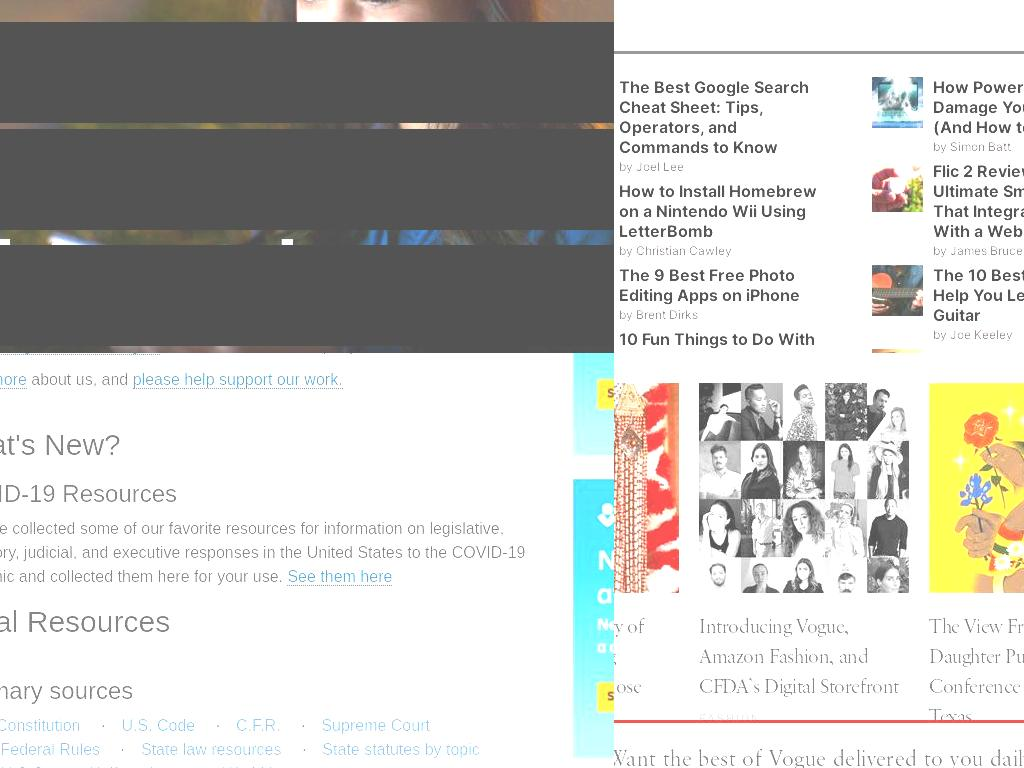button: (699, 383, 909, 593), (929, 383, 1024, 593), (614, 383, 679, 593), (132, 371, 343, 389), (872, 77, 924, 129), (872, 161, 924, 213), (872, 265, 924, 317), (287, 568, 393, 586), (0, 371, 27, 389)
heading: (0, 428, 543, 461), (0, 605, 543, 638), (699, 615, 899, 700), (618, 77, 809, 158), (0, 678, 528, 704), (618, 181, 817, 242), (929, 615, 1024, 730), (618, 265, 800, 306), (933, 161, 1024, 242), (933, 77, 1024, 138), (933, 265, 1024, 326), (0, 480, 177, 507), (618, 329, 815, 353), (929, 741, 993, 757), (699, 711, 761, 727)
image: (699, 383, 909, 593), (929, 383, 1024, 593), (614, 383, 679, 593), (872, 77, 924, 129), (872, 161, 924, 213), (872, 265, 924, 317)
link: (322, 741, 481, 758), (140, 741, 281, 758), (321, 717, 431, 734), (0, 741, 101, 758), (0, 717, 81, 734), (121, 717, 196, 734), (236, 717, 282, 734)
text: (0, 22, 614, 123), (0, 129, 614, 230), (0, 245, 614, 346), (0, 520, 525, 585), (614, 748, 1024, 768), (618, 157, 823, 177), (618, 241, 823, 261), (618, 305, 823, 325), (933, 137, 1024, 157), (933, 241, 1024, 261), (933, 325, 1024, 345), (26, 371, 133, 388)
